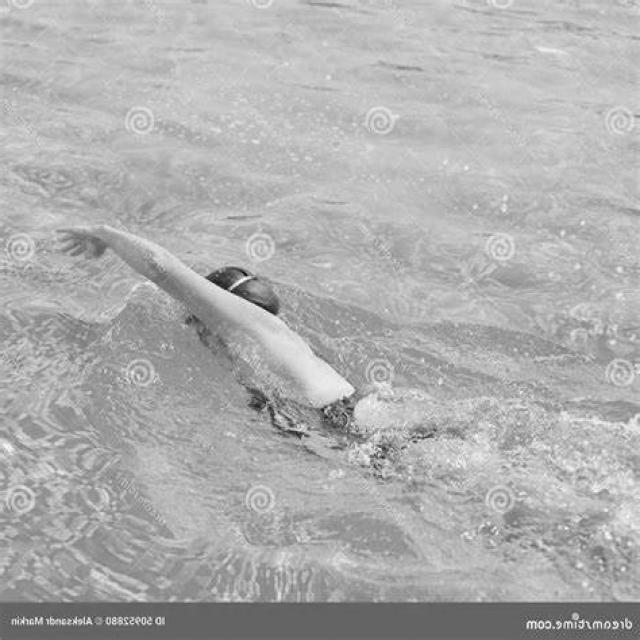swimming: (48, 217, 554, 565)
